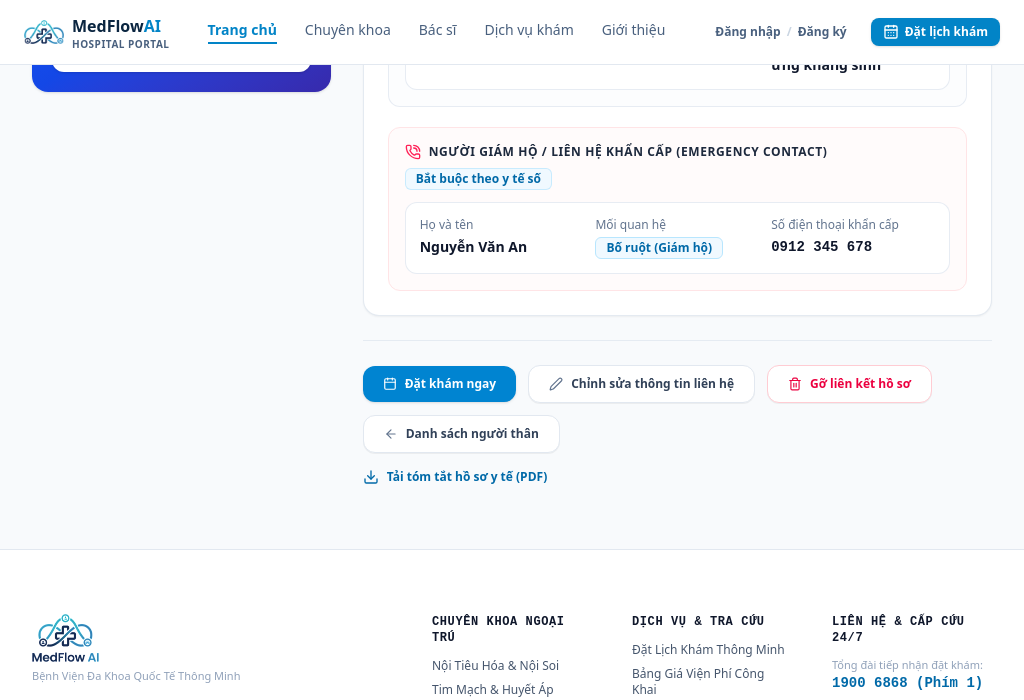
Remove Family Profile (M2-001) › hiển thị nút "Gỡ liên kết hồ sơ" trên trang chi tiết và mở modal gỡ bỏ
(page scrolled)
Click the button "Gỡ liên kết hồ sơ": (850, 384) [767,365,932,403]
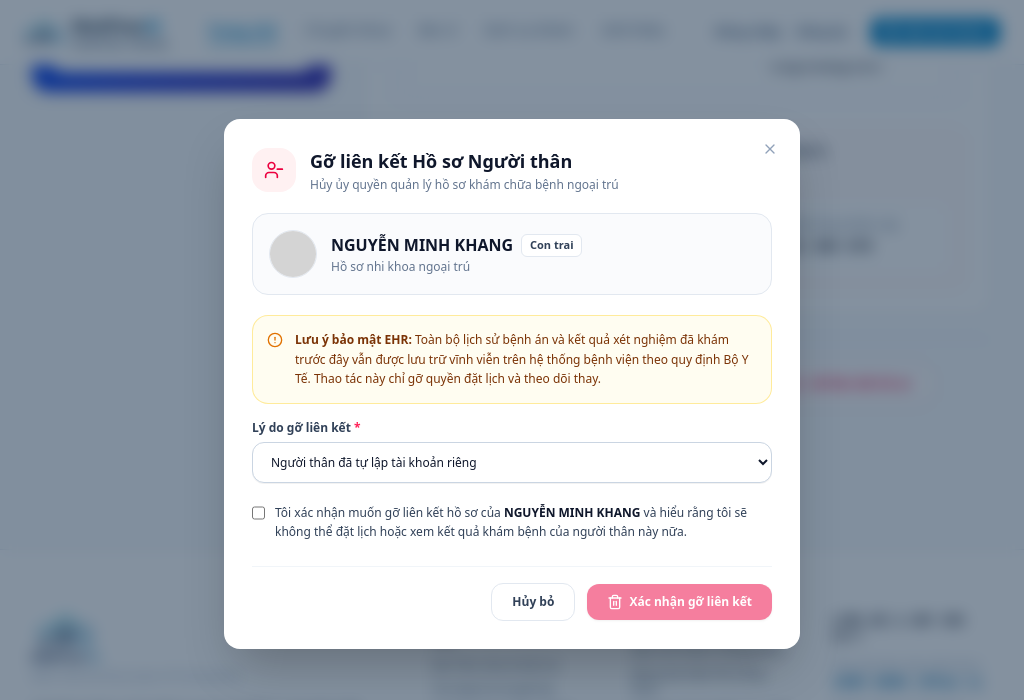
Now the heading "Gỡ liên kết Hồ sơ Người thân" is shown, box [310,149,572,173]
Now the text "Hủy ủy quyền quản lý hồ sơ khám chữa bệnh ngoại trú" is shown, box [310,177,619,193]
Now the text "Lưu ý bảo mật EHR:" is shown, box [295,331,412,348]
